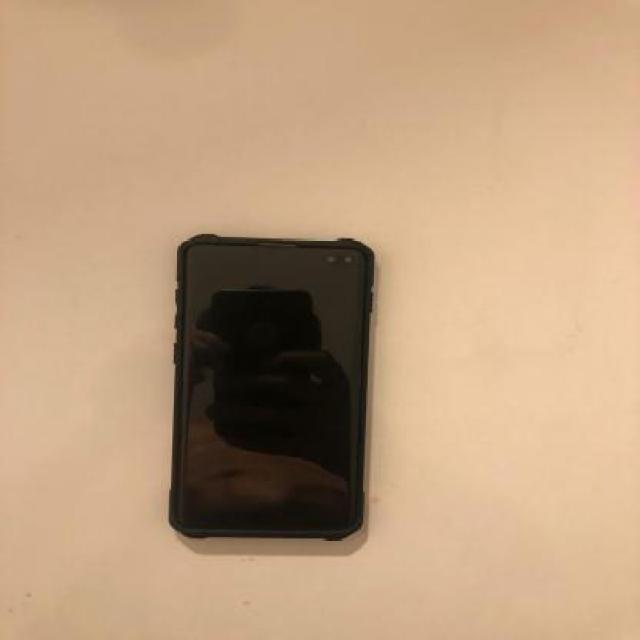phone: (164, 234, 376, 542)
